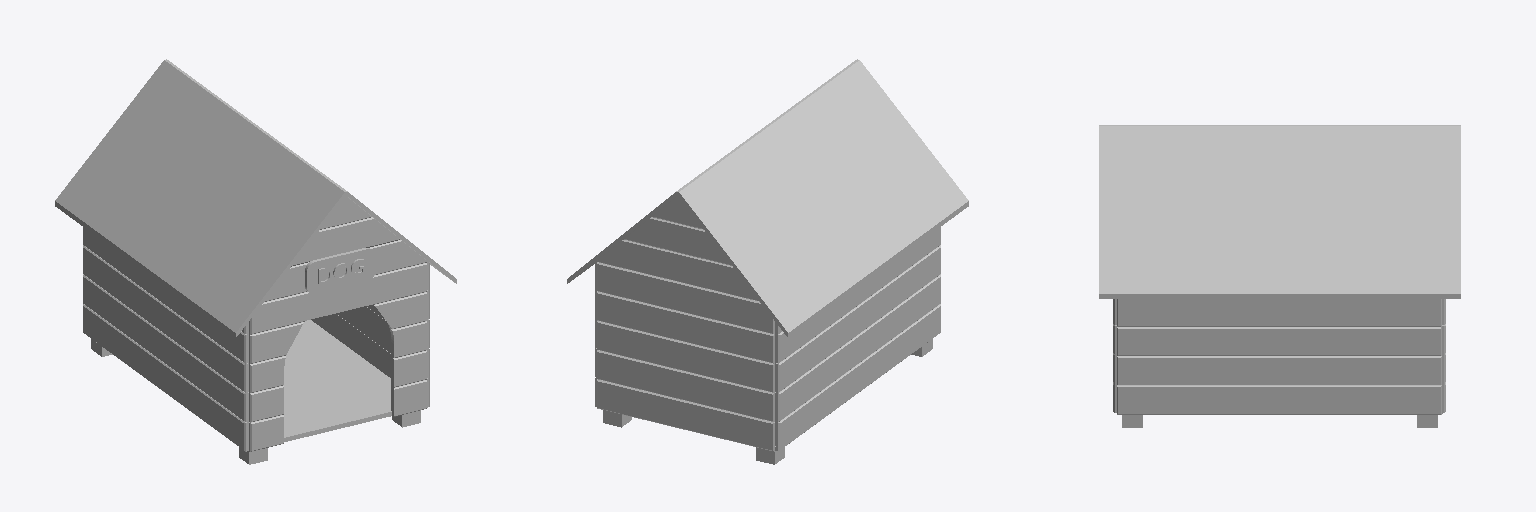
File: doghouse.obj
The picture shows the model from 3 angles: view 1: azimuth 30°, elevation 25°; view 2: azimuth 150°, elevation 25°; view 3: azimuth 270°, elevation 25°; orthographic projection.
Visible parts, largest first — view 1: Plane.001, Plane_Plane.004, Cube, Cube.001_Cube.040, Cube.004_Cube.045; view 2: Plane_Plane.004, Plane.001, Cube.004_Cube.045; view 3: Plane.001, Plane_Plane.004, Cube.004_Cube.045.
Boxes of the visible parts, x1,y1,x2,y2 form: Plane.001: [55, 59, 456, 337]; Plane_Plane.004: [83, 197, 429, 451]; Cube: [248, 320, 391, 450]; Cube.001_Cube.040: [305, 248, 374, 293]; Cube.004_Cube.045: [91, 339, 420, 464]; Plane_Plane.004: [595, 197, 940, 451]; Plane.001: [567, 59, 968, 337]; Cube.004_Cube.045: [603, 339, 932, 464]; Plane.001: [1099, 125, 1460, 298]; Plane_Plane.004: [1113, 299, 1445, 414]; Cube.004_Cube.045: [1122, 415, 1437, 427].
Bounding box in the file's own units: 5.09 × 5.72 × 7.19.